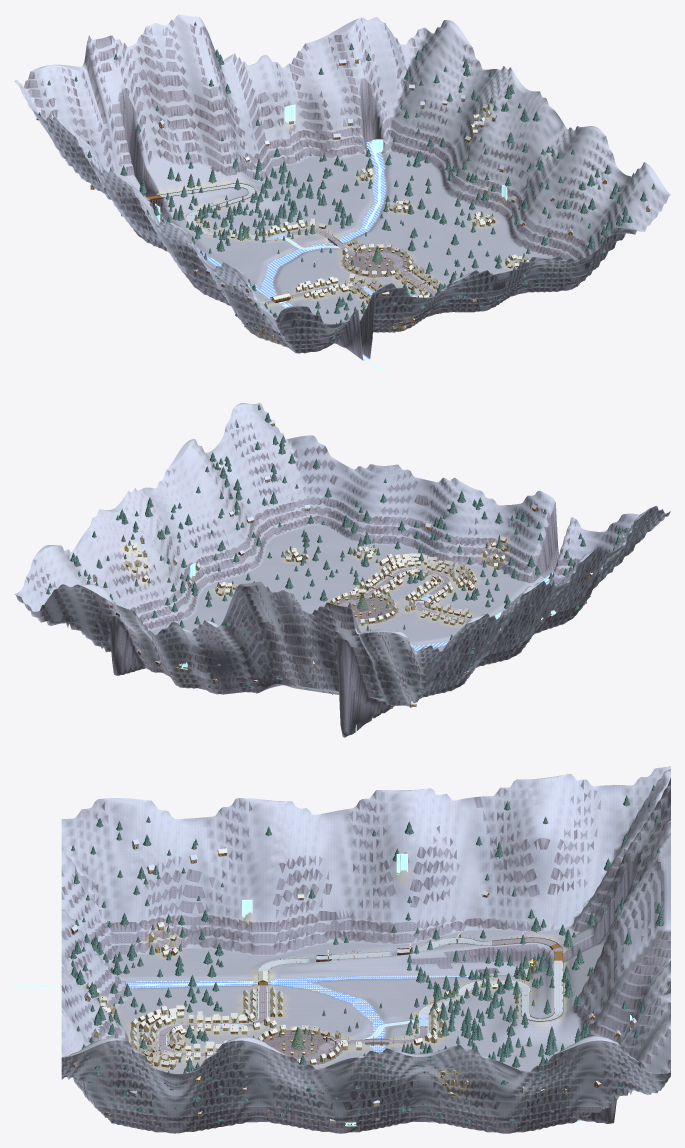
3 renders of one model, top to bottom at view 1: azimuth 30°, elevation 25°; view 2: azimuth 150°, elevation 25°; view 3: azimuth 270°, elevation 25°, orthographic. The views are drawn at different scales.
Visible parts, largest first — view 1: Land, Water visual 0 0, Forest visual -1 2, Forest visual -2 2, Village visual -1 -1, Village visual -2 -1, Forest visual -2 1, Road 08 climb; view 2: Land, Village visual -1 -2, Village visual -1 -1, Village visual -2 -1, Pines visual -1 -3, Pines visual 2 0, Village visual 0 -2; view 3: Land, Village visual -1 -2, Forest visual -1 2, Forest visual -2 2, Village visual -1 -1, Road 08 climb, Water visual 0 0, Forest visual -2 1, Forest visual -3 2, Village visual -2 -1, Pines visual -4 -2, Village visual 0 -2 (+4 smaller).
Boxes of the visible parts, x1,y1,x2,y2 form: Land: [14, 14, 670, 360]; Water visual 0 0: [155, 104, 507, 373]; Forest visual -1 2: [241, 180, 307, 220]; Forest visual -2 2: [178, 195, 248, 230]; Village visual -1 -1: [345, 262, 416, 297]; Village visual -2 -1: [292, 276, 364, 299]; Forest visual -2 1: [213, 216, 274, 245]; Road 08 climb: [160, 183, 255, 212]; Land: [14, 402, 670, 737]; Village visual -1 -2: [392, 555, 473, 594]; Village visual -1 -1: [358, 579, 441, 615]; Village visual -2 -1: [420, 593, 471, 625]; Pines visual -1 -3: [430, 491, 502, 564]; Pines visual 2 0: [145, 502, 220, 595]; Village visual 0 -2: [372, 553, 413, 579]; Land: [61, 766, 670, 1133]; Village visual -1 -2: [130, 1012, 214, 1053]; Forest visual -1 2: [464, 1004, 544, 1053]; Forest visual -2 2: [464, 967, 543, 1013]; Village visual -1 -1: [212, 1013, 296, 1052]; Road 08 climb: [521, 960, 563, 1021]; Water visual 0 0: [14, 853, 632, 1126]; Forest visual -2 1: [414, 975, 464, 1016]; Forest visual -3 2: [474, 934, 546, 980]; Village visual -2 -1: [213, 984, 283, 1019]; Pines visual -4 -2: [133, 816, 209, 940]; Village visual 0 -2: [137, 1048, 212, 1067].
Size of the model in its own units: 1140 by 407 by 1272.
Materials: 41 (41 with a texture image).
